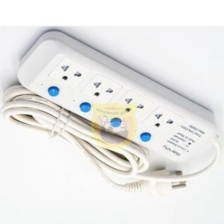three_eye_plug: (12, 26, 220, 167)
